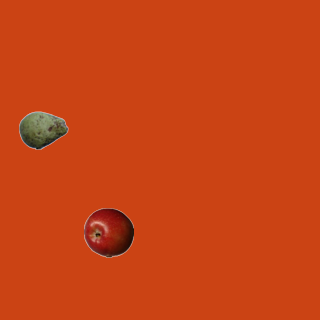Apple Braeburn: (83, 207, 133, 257)
Pear Stone: (18, 105, 68, 155)
